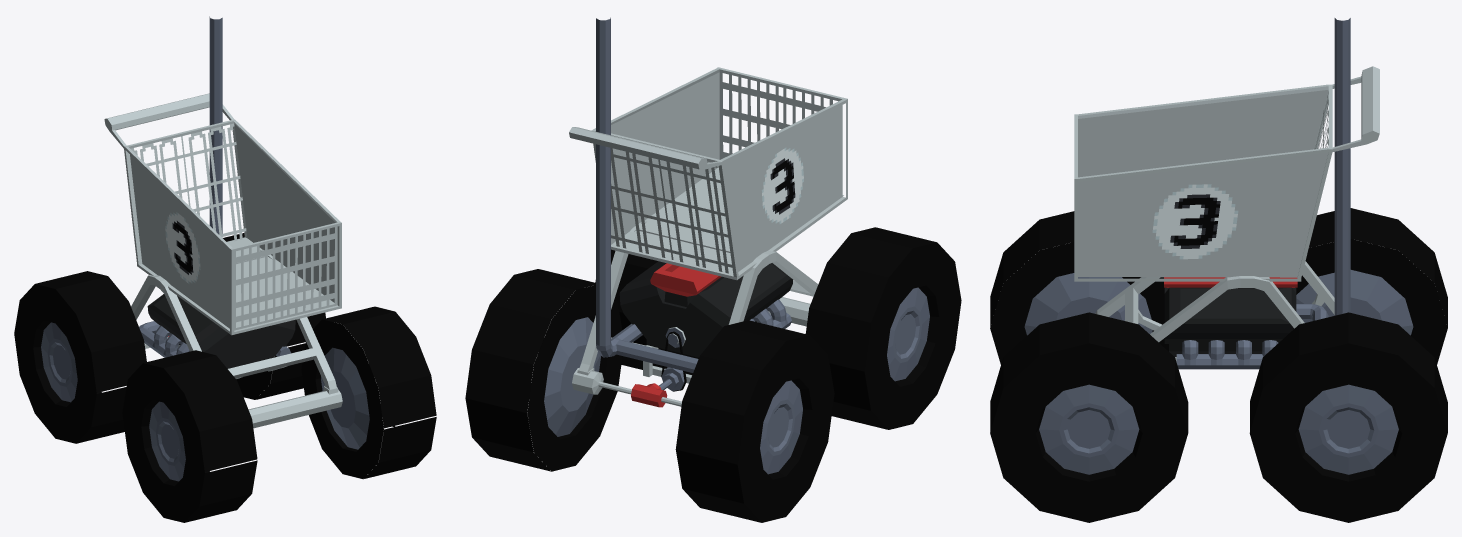
Rendered from trolley combine.glb.
3 renders of one model, left to right at view 1: azimuth 30°, elevation 25°; view 2: azimuth 150°, elevation 25°; view 3: azimuth 270°, elevation 25°, orthographic. The views are drawn at different scales.
Parts seen in each view (by area): view 1: Mainbody, FrontWheel R, RearWheel R, FrontWheel L, RearWheel L; view 2: Mainbody, RearWheel R, FrontWheel R, RearWheel L, FrontWheel L; view 3: Mainbody, FrontWheel L, RearWheel L, RearWheel R, FrontWheel R.
Boxes of the visible parts, x1,y1,x2,y2 form: Mainbody: (104,16,342,428); FrontWheel R: (122,350,257,522); RearWheel R: (14,271,146,443); FrontWheel L: (301,306,436,479); RearWheel L: (223,233,325,399); Mainbody: (569,17,847,407); RearWheel R: (675,320,834,522); FrontWheel R: (805,227,961,429); RearWheel L: (465,269,622,471); FrontWheel L: (595,249,698,374); Mainbody: (1074,18,1379,369); FrontWheel L: (990,312,1188,522); RearWheel L: (1249,312,1447,522); RearWheel R: (1296,208,1447,364); FrontWheel R: (990,211,1168,364).
Bounding box in the file's own units: 2.91 × 4.62 × 4.14.
1 material, 1 textured.
